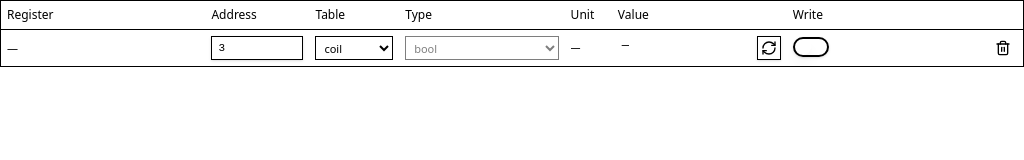
Test: RegisterTable row locking › holds the ON/OFF switch too
The image size is (1024, 160).
Replace the text in the field named "Raw address" with "beef" at (258, 48), box [212,36,304,60]
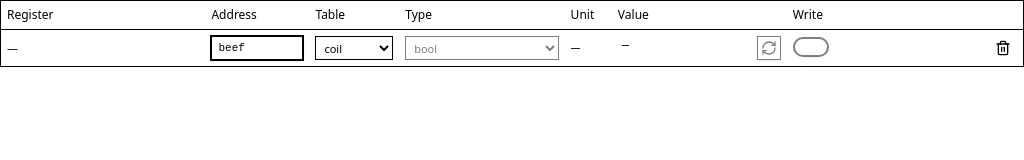
Check: the switch is disabled, box [793,37,829,57]
